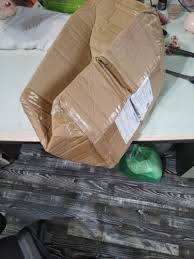damaged package: (15, 28, 94, 151), (96, 59, 132, 96)
